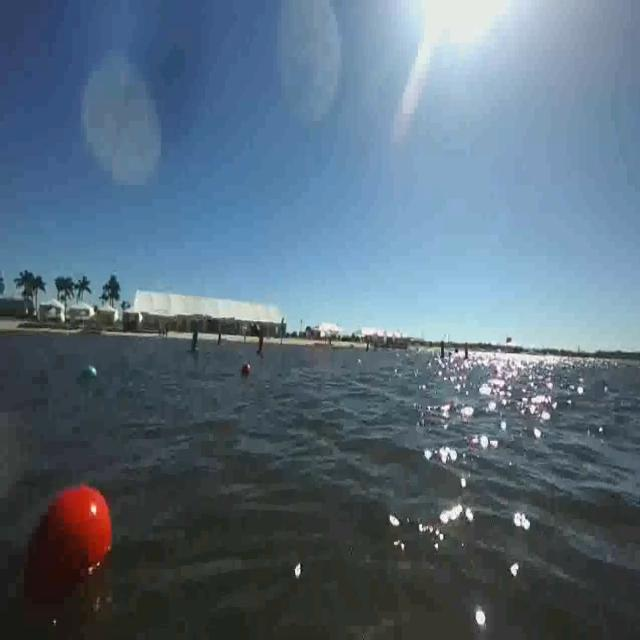green-buoy: (86, 365, 98, 378)
green-column-buoy: (188, 328, 198, 353)
red-buoy: (11, 476, 124, 628), (243, 363, 250, 374)
red-column-buoy: (256, 336, 264, 356)
